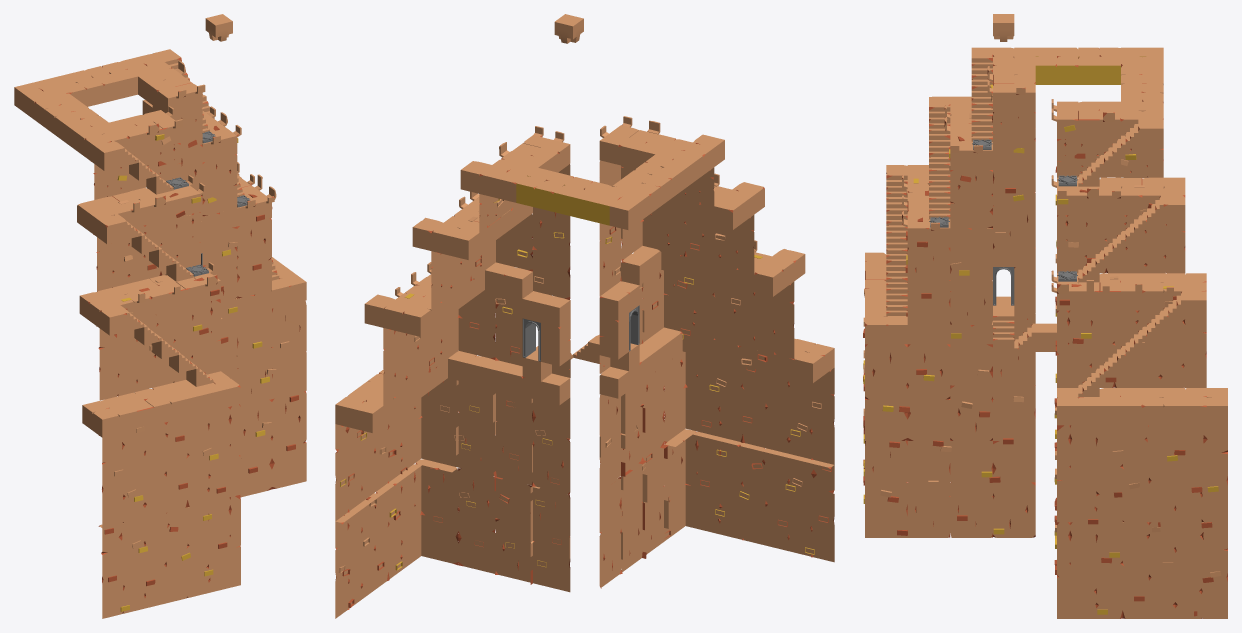
The model's file is RE_Stage4.fbx.
The picture shows the model from 3 angles, left to right: view 1: azimuth 30°, elevation 25°; view 2: azimuth 150°, elevation 25°; view 3: azimuth 270°, elevation 25°; orthographic projection. The views are drawn at different scales.
Parts seen in each view (by area): view 1: Box425, Box430, Box188, Box273, Box424, Box431, Object012, Box354, Object015, Box173, Box280, Box317 (+35 smaller); view 2: Box430, Box425, Box431, Box188, Box424, Box173, Box273, Object016, Object015, Box317, Object014, Object013 (+28 smaller); view 3: Box424, Box431, Box173, Box317, Box354, Object009, Object018, Box425, Object019, Object005, Object017, Object008 (+55 smaller).
Part boxes in pixels (<box>): Box425: <box>99,404,240,528</box>; Box430: <box>98,495,240,618</box>; Box188: <box>96,299,220,400</box>; Box273: <box>93,212,200,291</box>; Box424: <box>271,300,306,398</box>; Box431: <box>271,391,306,489</box>; Object012: <box>237,308,271,406</box>; Box354: <box>104,126,298,611</box>; Object015: <box>240,399,271,497</box>; Box173: <box>237,218,271,298</box>; Box280: <box>91,143,180,199</box>; Box317: <box>202,154,237,216</box>; Box430: <box>664,429,834,562</box>; Box425: <box>664,351,834,464</box>; Box431: <box>335,459,458,618</box>; Box188: <box>642,270,794,358</box>; Box424: <box>335,378,458,521</box>; Box173: <box>383,290,495,405</box>; Box273: <box>621,211,754,272</box>; Object016: <box>530,486,570,592</box>; Object015: <box>457,468,495,573</box>; Box317: <box>431,214,532,309</box>; Object014: <box>494,477,532,582</box>; Object013: <box>532,398,570,495</box>; Box424: <box>1057,425,1227,522</box>; Box431: <box>1057,522,1227,618</box>; Box173: <box>1057,310,1206,387</box>; Box317: <box>1057,215,1185,273</box>; Box354: <box>863,84,1221,616</box>; Object009: <box>907,344,950,440</box>; Object018: <box>907,440,950,537</box>; Box425: <box>865,344,907,440</box>; Object019: <box>993,441,1035,537</box>; Object005: <box>993,150,1035,247</box>; Object017: <box>950,440,992,537</box>; Object008: <box>950,344,992,440</box>.
Bounding box in the file's own units: 342 × 560 × 342.
